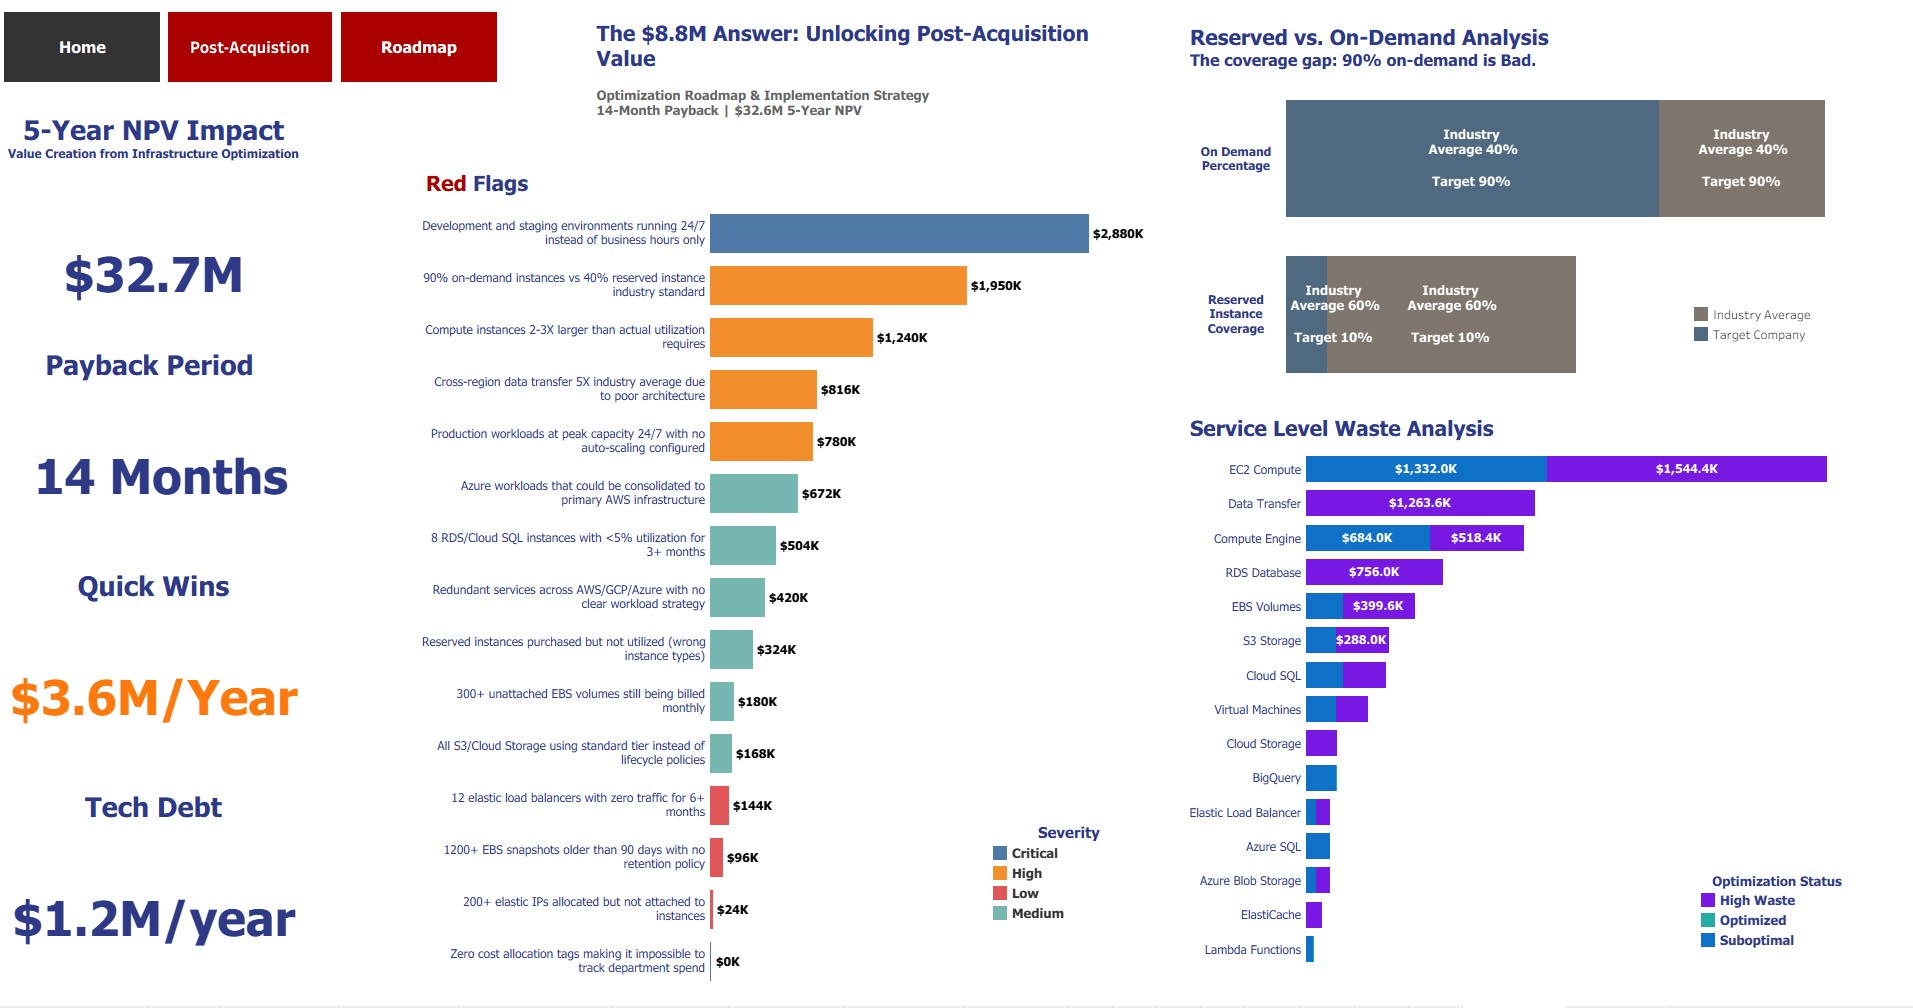

Layout of this report page (visuals, bound fields, positions):
{"tool":"tableau","page":{"name":"Dashboard 2","canvas":[1000,1000],"units":"permille","ordinal":1},"visuals":[{"type":"text","box":[311.3,10.5,287.3,125]},{"type":"dashboard-object","box":[2.3,11.7,85.4,77.1]},{"type":"dashboard-object","box":[87.8,11.7,89.6,77.1]},{"type":"dashboard-object","box":[177.3,11.7,85.4,77.1]},{"type":"worksheet","title":"chart 7","mark":"Automatic","rows":["Metric"],"box":[619.9,23.4,346.9,368]},{"type":"worksheet","title":"KPI 5","mark":"Automatic","box":[2.3,107.5,159.7,233.4]},{"type":"worksheet","title":"chart 6","mark":"Automatic","rows":["Issue_Description"],"cols":["Annual_Cost_Impact"],"box":[221.8,168.2,388.1,813.1]},{"type":"legend","title":"chart 7","param":"[federated.0u4ryjf04t94ku1gghh9p1r2bg7c].[:Measure Names]","box":[882.8,287.4,81.8,101.6]},{"type":"worksheet","title":"KPI 6","mark":"Automatic","box":[2.3,340.9,159.7,218.5]},{"type":"worksheet","title":"chart 8","mark":"Automatic","rows":["Service"],"cols":["Waste_Amount"],"box":[619.9,411.2,347.4,549.1]},{"type":"worksheet","title":"KPI 7","mark":"Automatic","box":[2.3,559.4,159.7,218.5]},{"type":"worksheet","title":"KPI 8","mark":"Automatic","box":[2.3,778,159.7,218.5]},{"type":"legend","title":"chart 6","param":"[federated.0u4ryjf04t94ku1gghh9p1r2bg7c].[none:Severity:nk]","box":[518,818.9,82.4,126.2]},{"type":"legend","title":"chart 8","param":"[federated.0u4ryjf04t94ku1gghh9p1r2bg7c].[none:Optimization_Status:nk]","box":[886.5,868,82.4,90]}]}

Visuals, with their boxes on the dashboard's canvas, which has no fixed pixel size, in thousandths of its width and height (x1, y1, x2, y2). These are canvas units, not pixel positions in the 1913x1008 screenshot, which may show the page scaled, cropped or inside an application window:
text: (x1=311, y1=10, x2=599, y2=136)
dashboard-object: (x1=2, y1=12, x2=88, y2=89)
dashboard-object: (x1=88, y1=12, x2=177, y2=89)
dashboard-object: (x1=177, y1=12, x2=263, y2=89)
"chart 7" worksheet: (x1=620, y1=23, x2=967, y2=391)
"KPI 5" worksheet: (x1=2, y1=108, x2=162, y2=341)
"chart 6" worksheet: (x1=222, y1=168, x2=610, y2=981)
"chart 7" legend: (x1=883, y1=287, x2=965, y2=389)
"KPI 6" worksheet: (x1=2, y1=341, x2=162, y2=559)
"chart 8" worksheet: (x1=620, y1=411, x2=967, y2=960)
"KPI 7" worksheet: (x1=2, y1=559, x2=162, y2=778)
"KPI 8" worksheet: (x1=2, y1=778, x2=162, y2=996)
"chart 6" legend: (x1=518, y1=819, x2=600, y2=945)
"chart 8" legend: (x1=886, y1=868, x2=969, y2=958)
